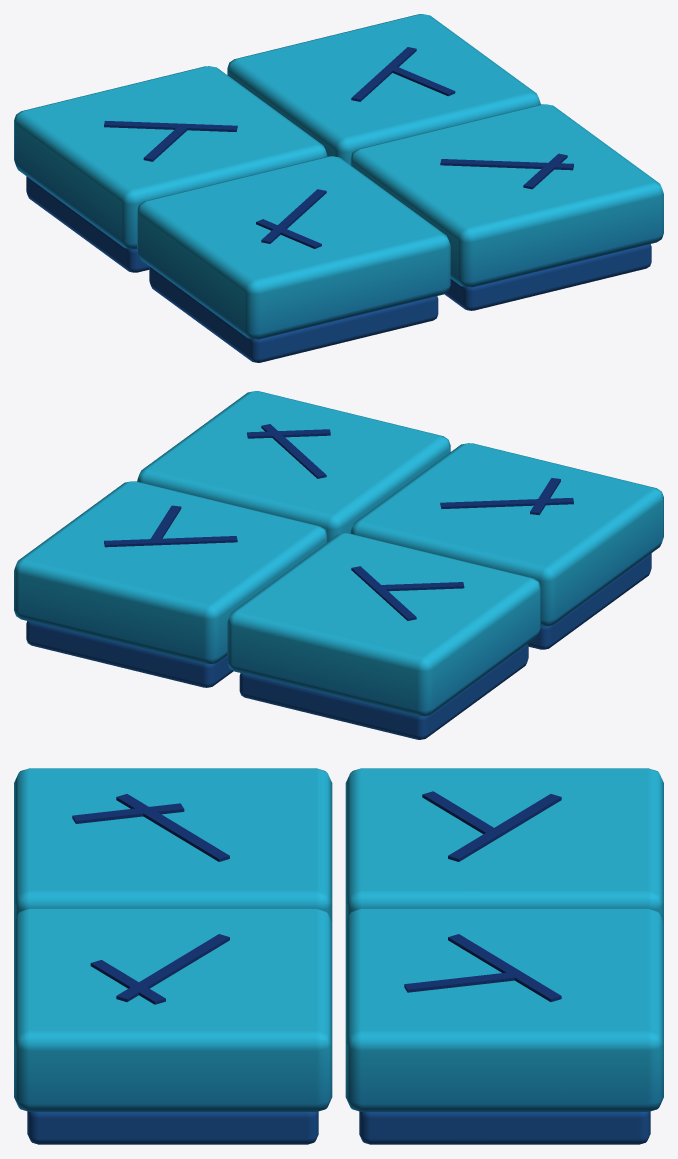
File: PLAT_Crumble.glb
The picture shows the model from 3 angles, top to bottom: view 1: azimuth 30°, elevation 25°; view 2: azimuth 150°, elevation 25°; view 3: azimuth 270°, elevation 25°; orthographic projection. The views are drawn at different scales.
Parts seen in each view (by area): view 1: Tile_LB, Tile_RB, Tile_LF, Tile_RF; view 2: Tile_LF, Tile_RF, Tile_LB, Tile_RB; view 3: Tile_RB, Tile_RF, Tile_LB, Tile_LF.
Boxes of the visible parts, x1,y1,x2,y2 form: Tile_LB: (137,156,450,362); Tile_RB: (350,104,663,310); Tile_LF: (14,66,327,272); Tile_RF: (227,14,540,164); Tile_LF: (227,533,540,739); Tile_RF: (14,481,327,687); Tile_LB: (350,443,663,649); Tile_RB: (137,391,450,541); Tile_RB: (14,908,332,1144); Tile_RF: (345,908,663,1144); Tile_LB: (14,768,332,922); Tile_LF: (345,768,663,922).
Bounding box in the file's own units: 2.9 × 0.595 × 2.9.
